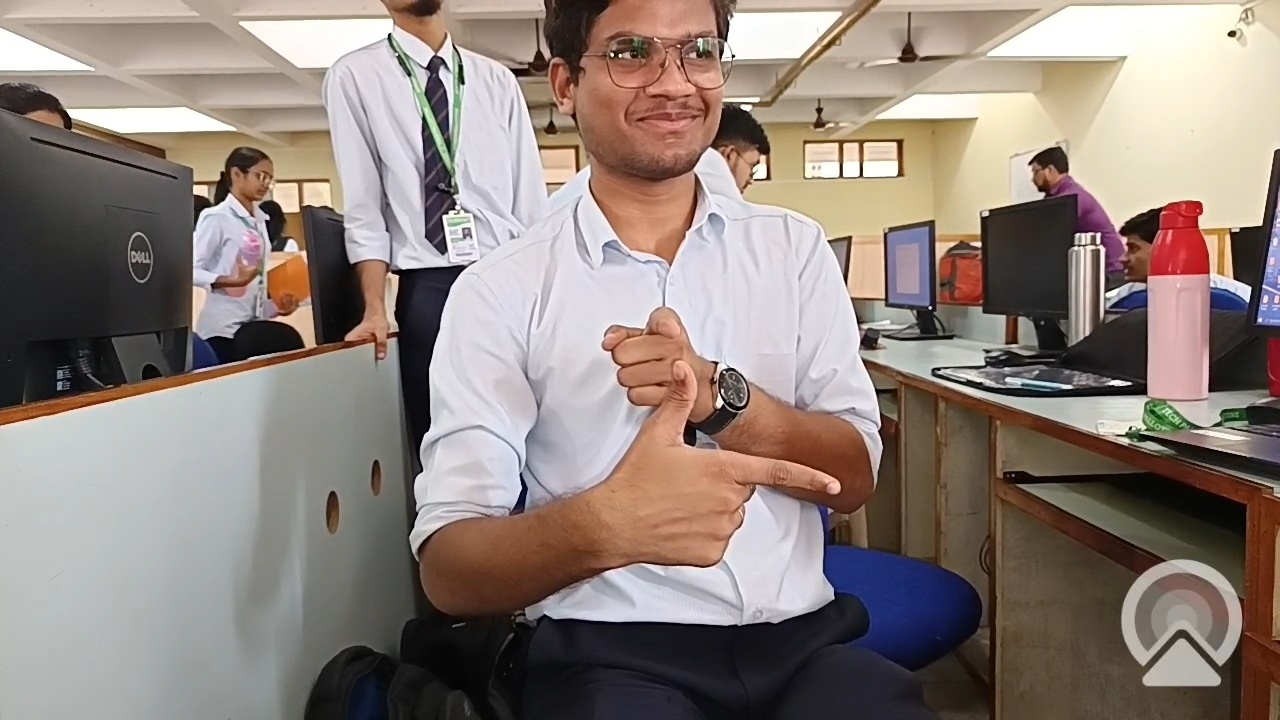J: (566, 288, 868, 632)
